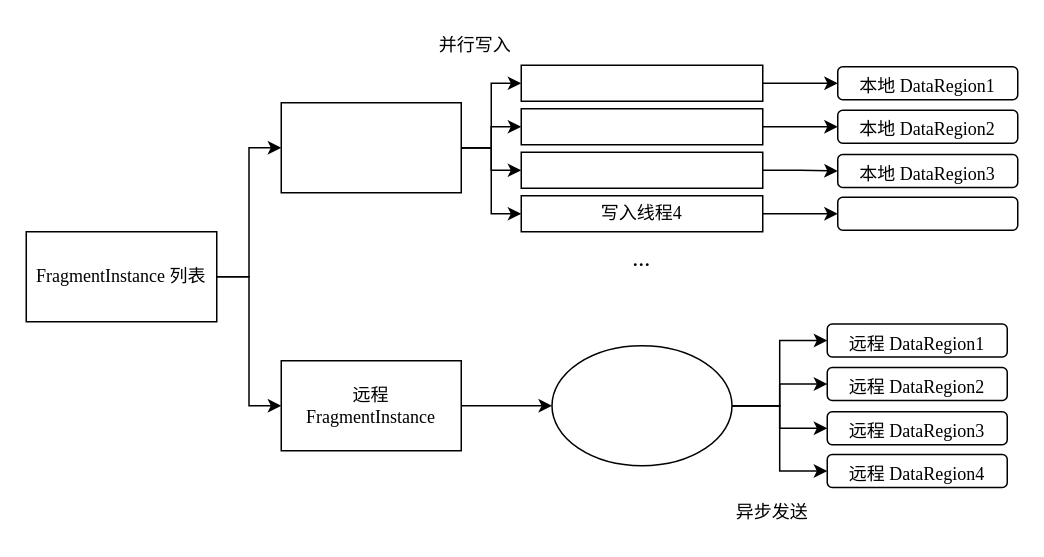
The diagram is 1044 pixels wide and 557 high, and some of its shapes have lost their labels. Here are the shapes that lost their labels. From the top down, the centre of each, then its label:
At [641,82]: "写入线程1".
At [641,126]: "写入线程2".
At [370,147]: "本地FragmentInstance".
At [641,169]: "写入线程3".
At [927,213]: "本地 DataRegion4".
At [641,405]: "异步客户端".
